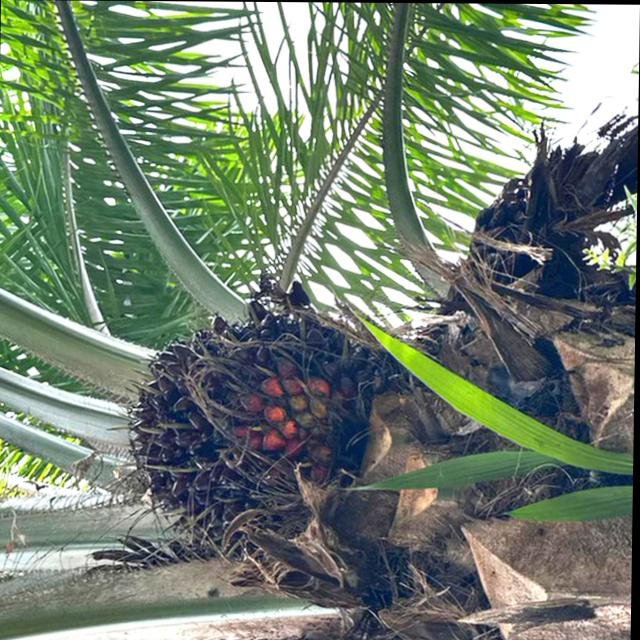ripe: (114, 296, 385, 552)
